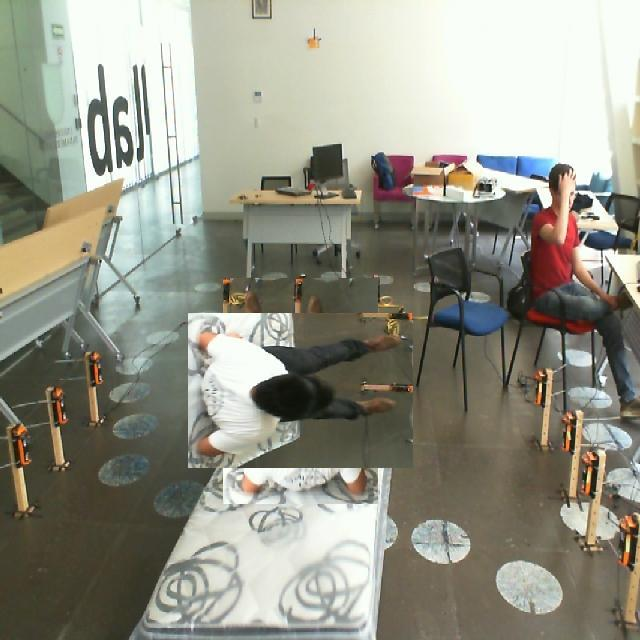Fall: (195, 314, 418, 494)
NotFall: (470, 143, 630, 461)
